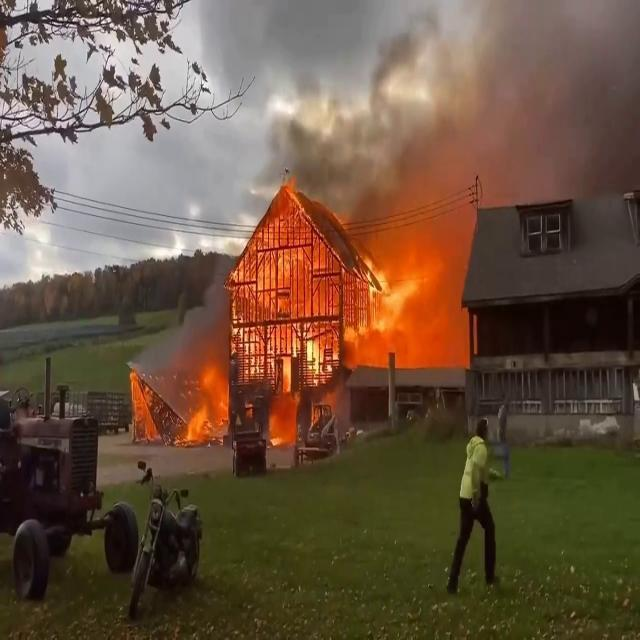Fire: (227, 188, 471, 372), (180, 357, 234, 445), (263, 373, 307, 452), (126, 363, 160, 442)
Smoke: (334, 0, 640, 250)
